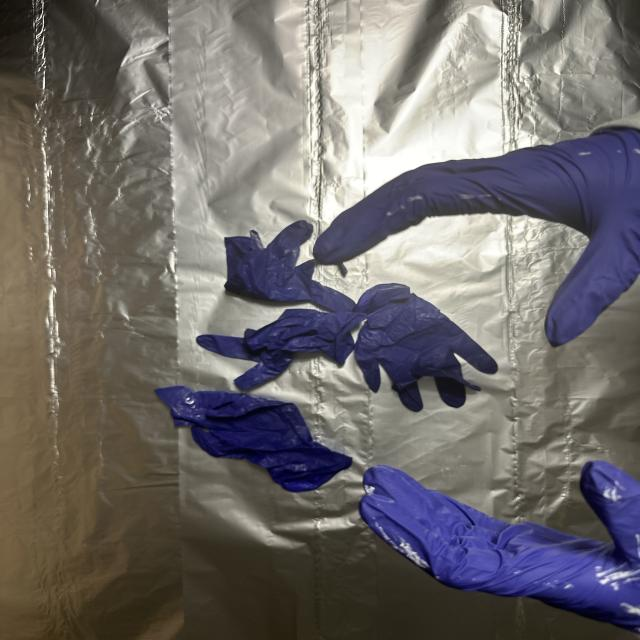gloves_contaminated: (314, 124, 640, 346), (359, 461, 640, 634)
